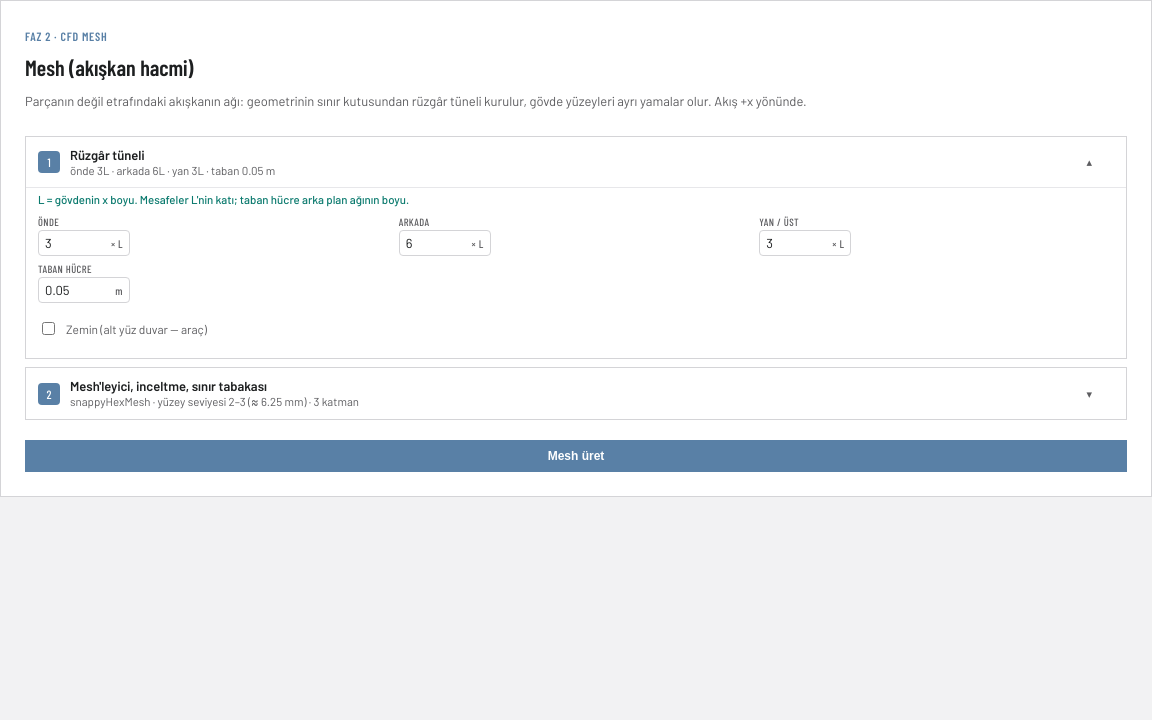
Test: CfdMeshPanel (AKIŞ · 2 · Mesh) › başarısız mesh mesajını gösterir
The image size is (1152, 720).
Click the button "Mesh üret" at [576, 456], box 25,440 -> 1127,472
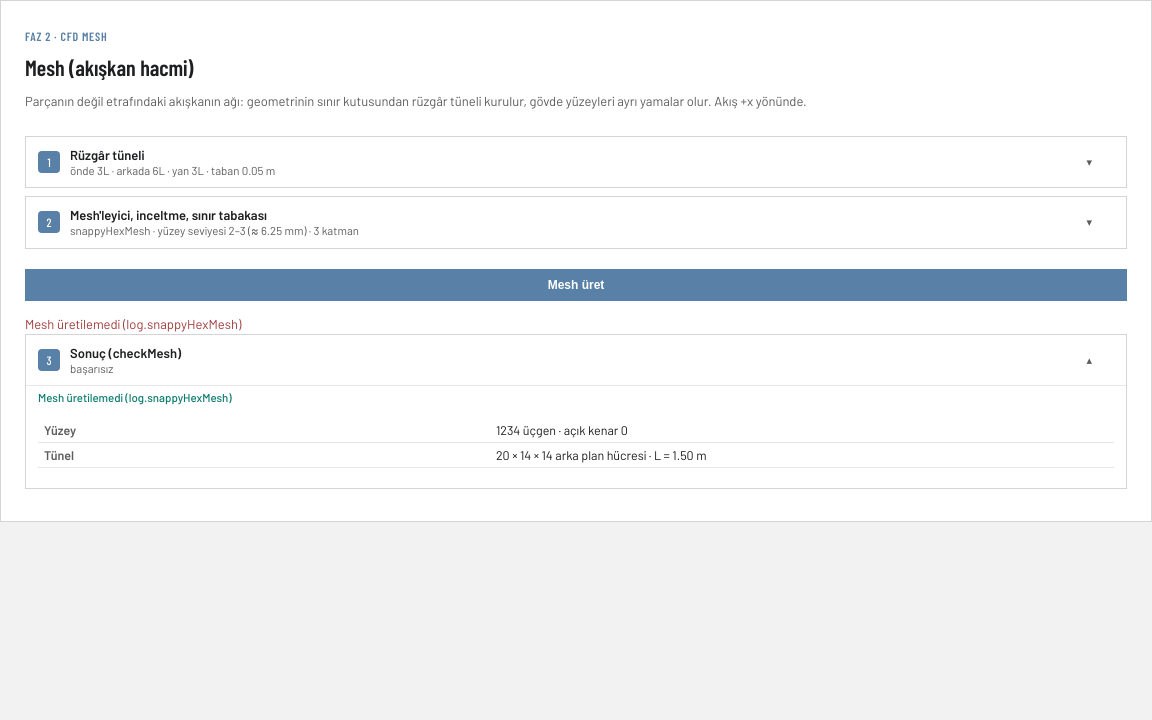
expect the message shows "Mesh üretilemedi": met, box 25,316 -> 241,332
